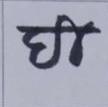i_matra: (59, 15, 85, 66)
